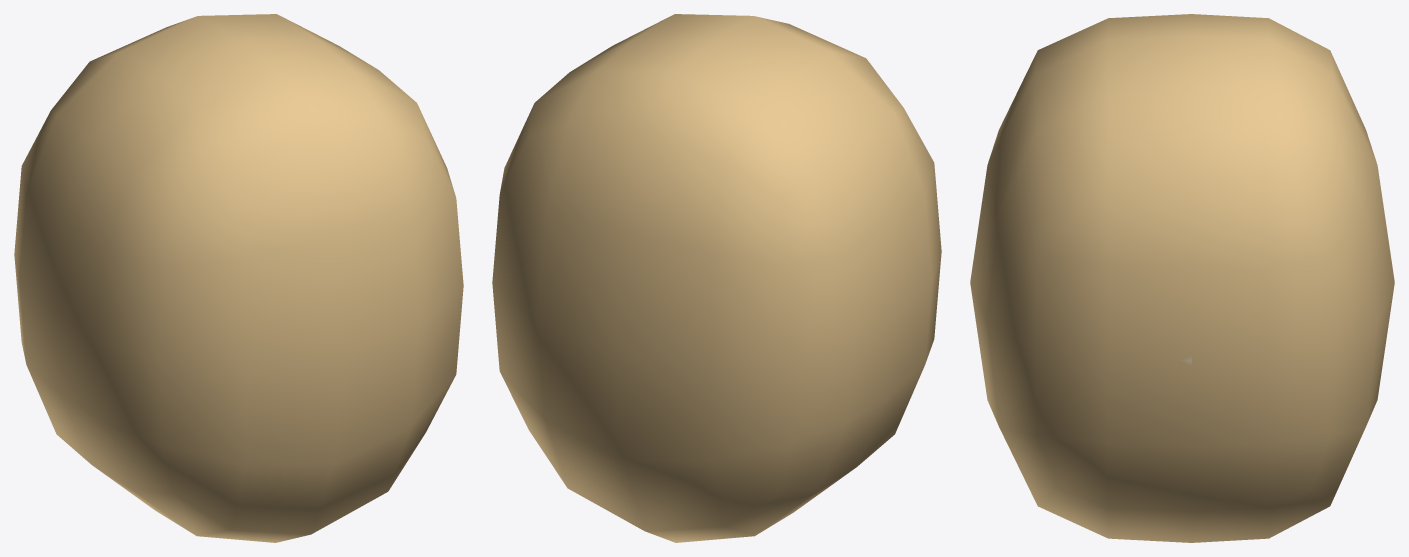
Rendered from CharacterHead_02.FBX.
The picture shows the model from 3 angles, left to right: view 1: azimuth 30°, elevation 25°; view 2: azimuth 150°, elevation 25°; view 3: azimuth 270°, elevation 25°; orthographic projection. The views are drawn at different scales.
Parts seen in each view (by area): view 1: Character_Head02; view 2: Character_Head02; view 3: Character_Head02.
Boxes of the visible parts, <box> form: Character_Head02: <box>14,14,463,542</box>; Character_Head02: <box>492,14,941,542</box>; Character_Head02: <box>970,14,1394,542</box>.
Size of the model in its own units: 45.96 by 57.85 by 45.1.
